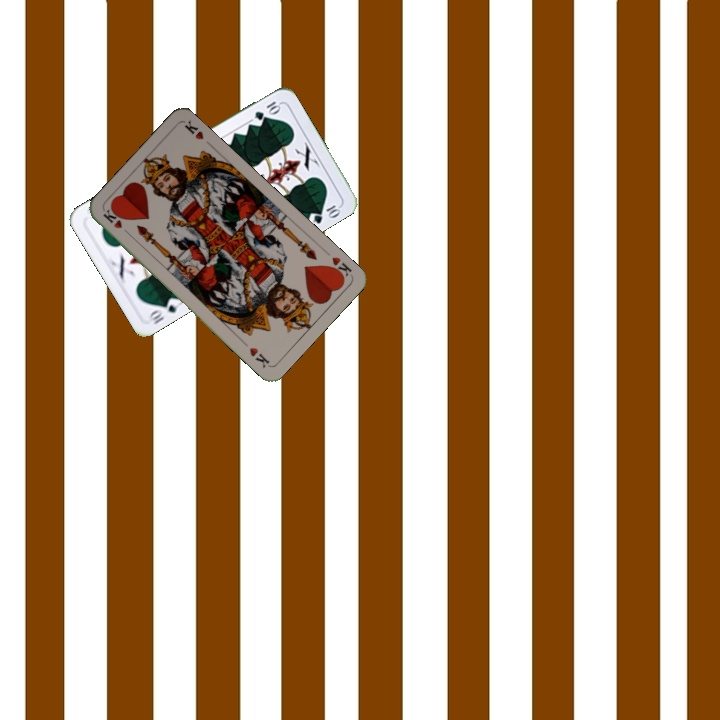G10: (145, 293, 183, 327), (250, 97, 283, 123)
HK: (99, 205, 133, 239), (324, 253, 355, 283)
